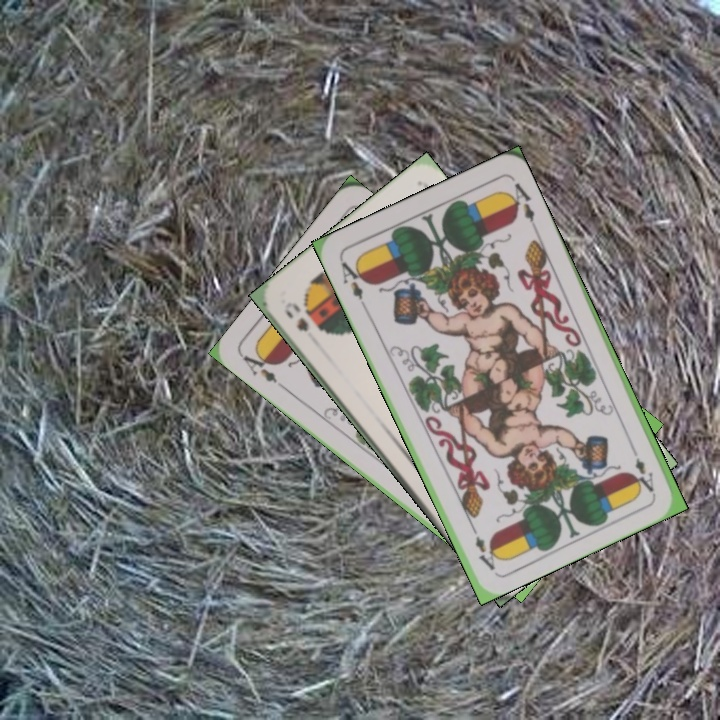EA: (239, 346, 288, 392), (336, 255, 369, 311), (625, 440, 657, 495)
SO: (280, 297, 311, 335)
